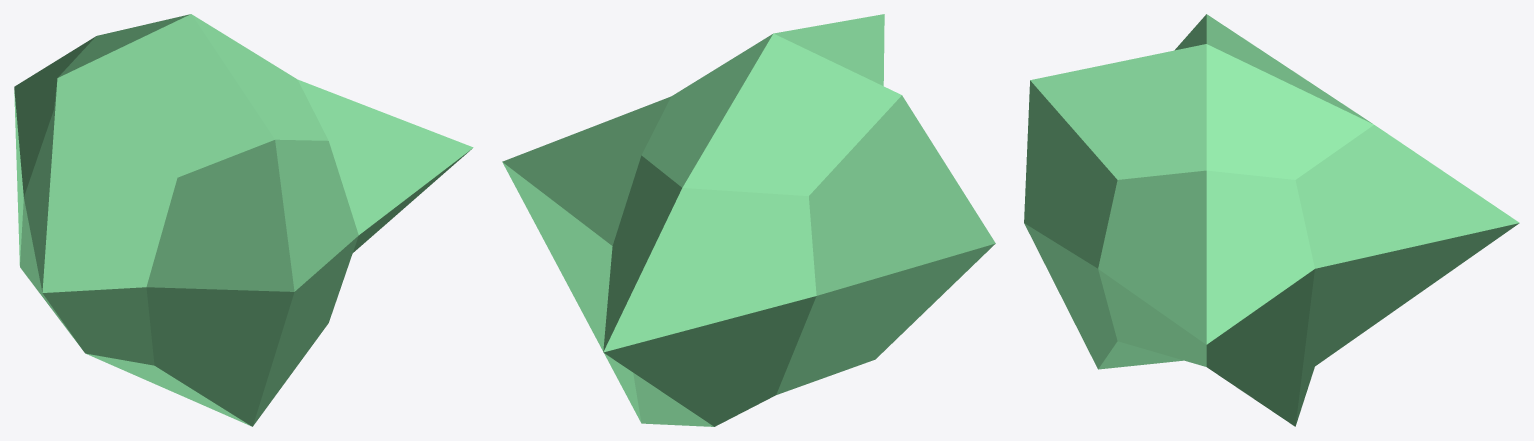
The model's file is randomnoncube.glb.
3 renders of one model, left to right at view 1: azimuth 30°, elevation 25°; view 2: azimuth 150°, elevation 25°; view 3: azimuth 270°, elevation 25°, orthographic. The views are drawn at different scales.
Parts seen in each view (by area): view 1: noncube; view 2: noncube; view 3: noncube.
Part boxes in pixels (box(x1,y1,x2,y2)): noncube: box(14, 14, 473, 426); noncube: box(502, 14, 995, 426); noncube: box(1024, 14, 1519, 426).
Bounding box in the file's own units: 103 × 81.24 × 106.
